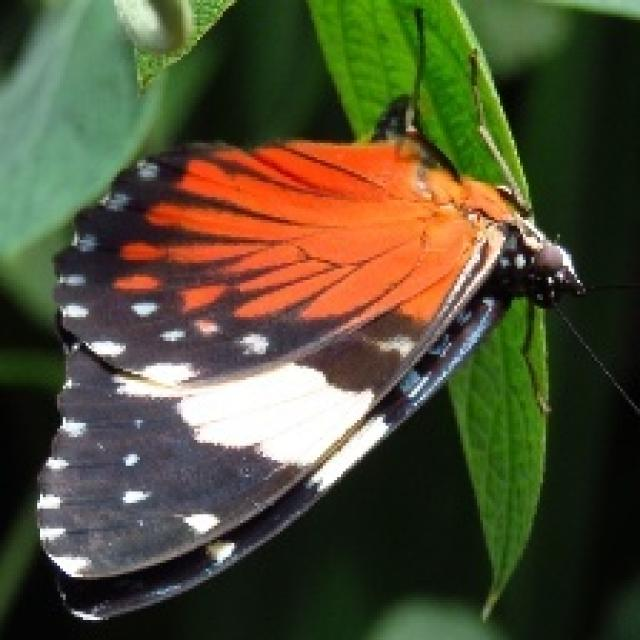butterfly: (32, 3, 637, 617)
